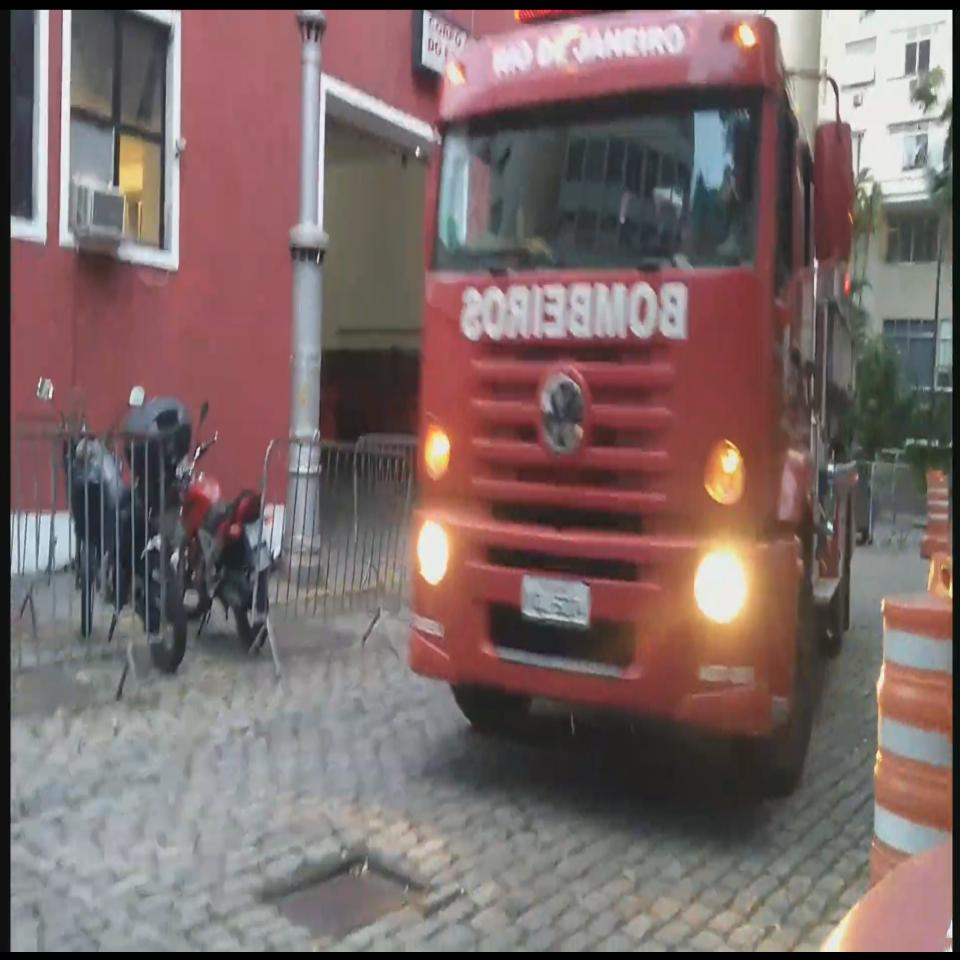viatura: (411, 0, 857, 795)
